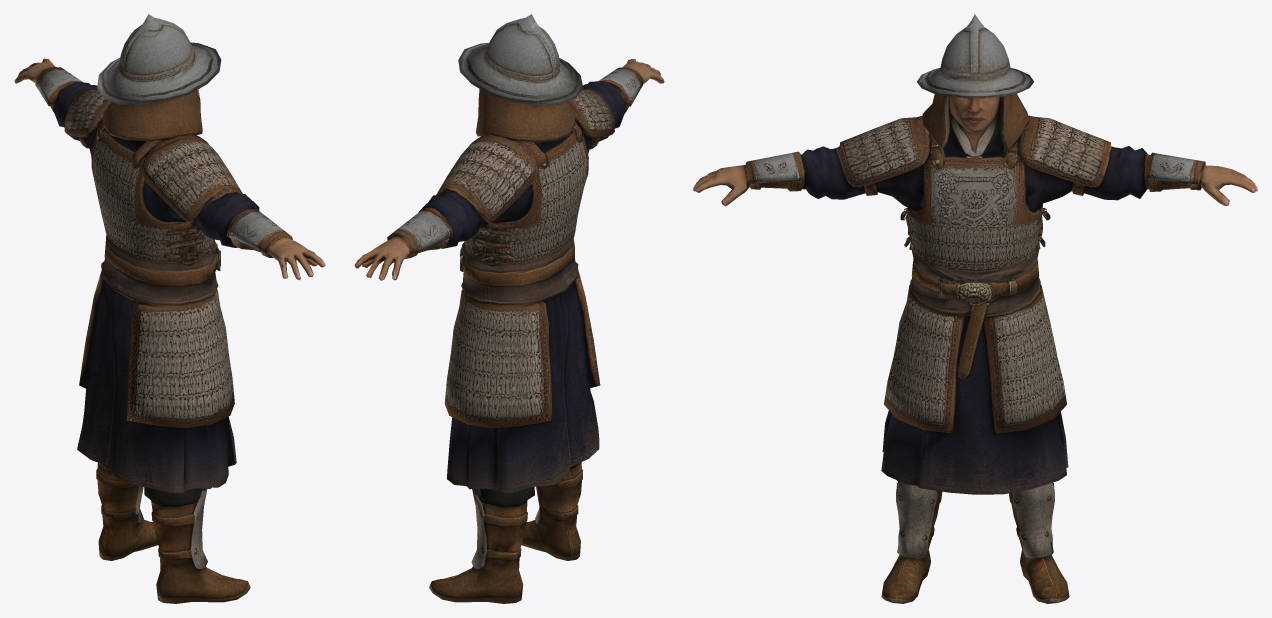
Rendered from tripo_convert_74080320-2742-4915-ab54-fe52dd1aaaa6.fbx.
3 renders of one model, left to right at view 1: azimuth 30°, elevation 25°; view 2: azimuth 150°, elevation 25°; view 3: azimuth 270°, elevation 25°, orthographic.
Parts seen in each view (by area): view 1: tripo_node_74080320; view 2: tripo_node_74080320; view 3: tripo_node_74080320.
Part boxes in pixels (box(x1,y1,x2,y2)): tripo_node_74080320: box(14, 14, 325, 603); tripo_node_74080320: box(354, 14, 664, 603); tripo_node_74080320: box(693, 14, 1257, 603).
Bounding box in the file's own units: 0.2129 × 0.998 × 0.9082.
Materials: 1 (1 with a texture image).
